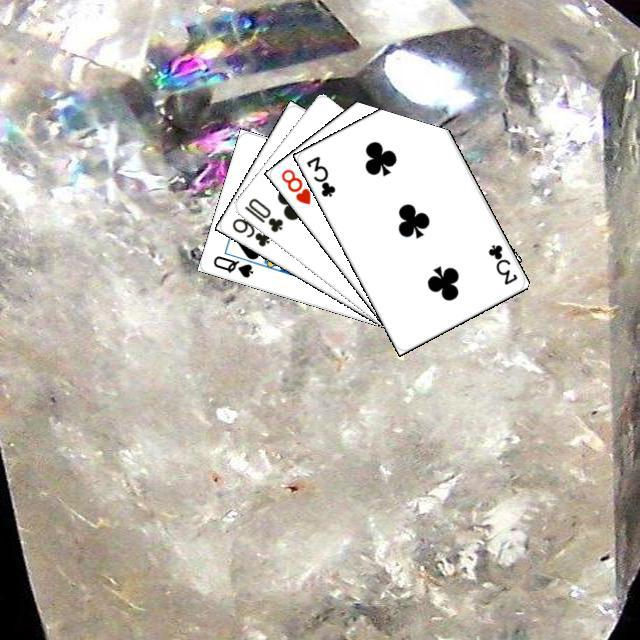10c: (239, 193, 285, 234)
3c: (301, 151, 337, 199), (483, 239, 519, 287)
8h: (276, 164, 313, 206)
9c: (227, 213, 272, 248)
Qs: (208, 251, 255, 279)
